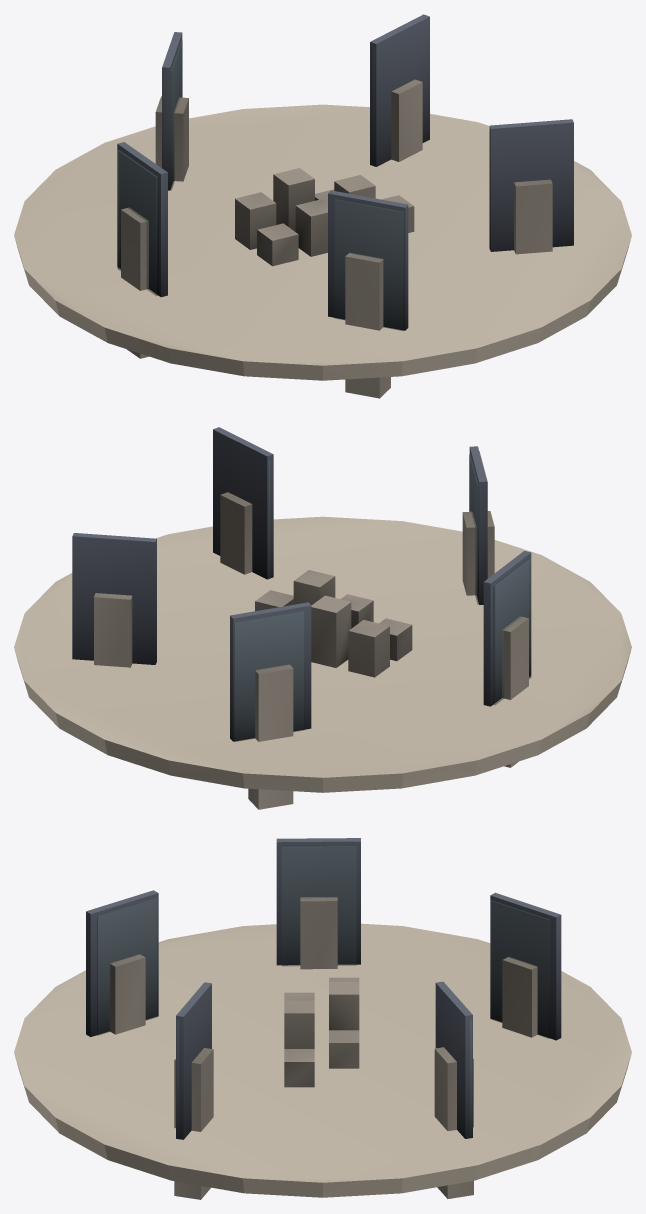
Rendered from observer_mirrors.glb.
The picture shows the model from 3 angles, top to bottom: view 1: azimuth 30°, elevation 25°; view 2: azimuth 150°, elevation 25°; view 3: azimuth 270°, elevation 25°; orthographic projection.
Parts seen in each view (by area): view 1: observer_mirrors; view 2: observer_mirrors; view 3: observer_mirrors.
Boxes of the visible parts, bbox=[...] form: observer_mirrors: bbox=[14, 14, 631, 398]; observer_mirrors: bbox=[14, 427, 631, 809]; observer_mirrors: bbox=[14, 838, 631, 1199].
Size of the model in its own units: 26.4 by 9 by 26.4.
